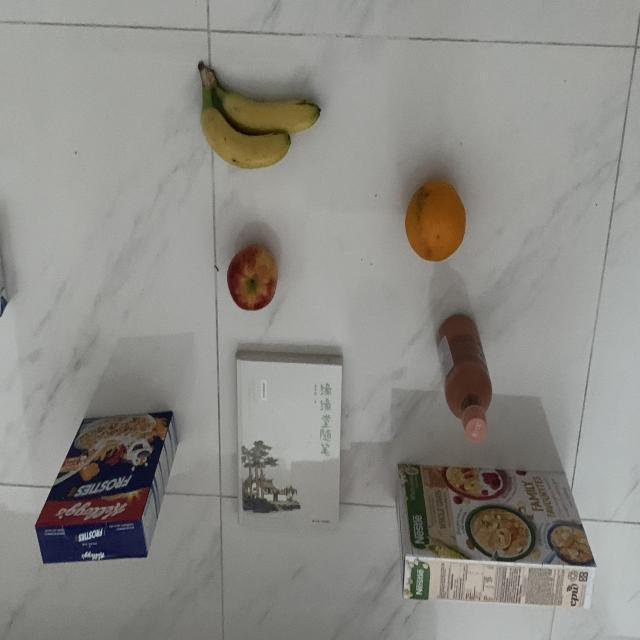Apple: (222, 238, 278, 313)
Banana: (193, 59, 324, 174)
Book: (232, 348, 344, 532)
Cerealbox: (394, 462, 598, 613), (32, 411, 180, 568)
Orange: (400, 177, 472, 270)
